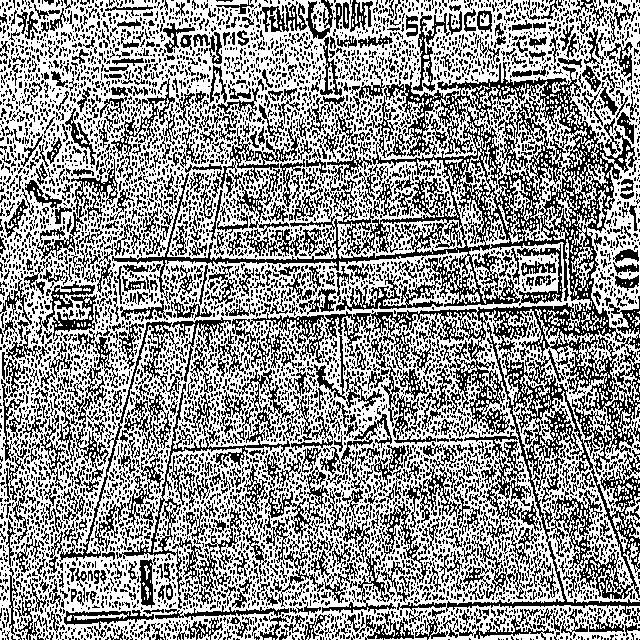left side: (443, 156, 640, 603), (64, 166, 227, 621)
player: (317, 364, 398, 472), (249, 66, 275, 149)
